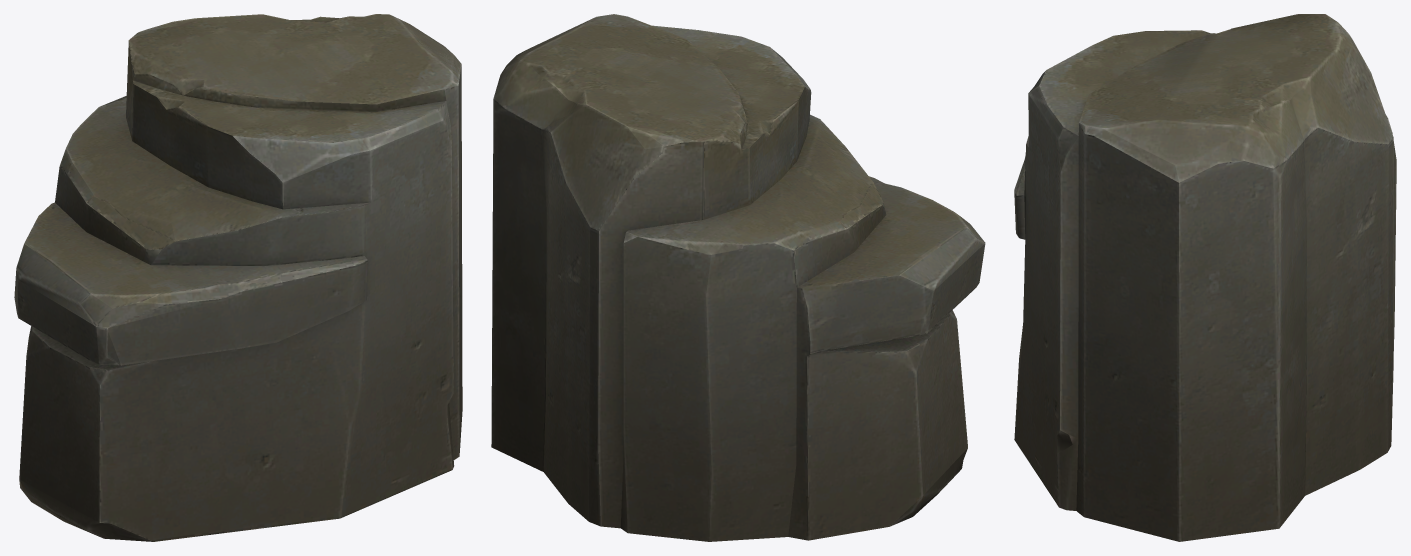
File: riveredge_rock010a.glb
The picture shows the model from 3 angles, left to right: view 1: azimuth 30°, elevation 25°; view 2: azimuth 150°, elevation 25°; view 3: azimuth 270°, elevation 25°; orthographic projection. The views are drawn at different scales.
Visible parts, largest first — view 1: models\props_rock\riveredge_rock010a.vmdl_c.riveredge_rock01; view 2: models\props_rock\riveredge_rock010a.vmdl_c.riveredge_rock01; view 3: models\props_rock\riveredge_rock010a.vmdl_c.riveredge_rock01.
Part boxes in pixels (left/top/right/bottom): models\props_rock\riveredge_rock010a.vmdl_c.riveredge_rock01: left=14, top=14, right=462, bottom=541; models\props_rock\riveredge_rock010a.vmdl_c.riveredge_rock01: left=491, top=14, right=985, bottom=541; models\props_rock\riveredge_rock010a.vmdl_c.riveredge_rock01: left=1014, top=14, right=1396, bottom=541.
Size of the model in its own units: 8.67 by 7.32 by 6.4.
Materials: 1 (1 with a texture image).
